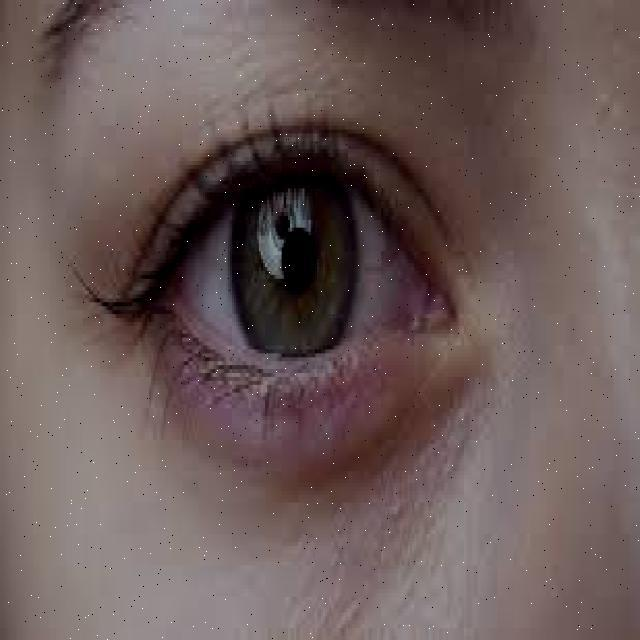Normal: (68, 106, 491, 479)
